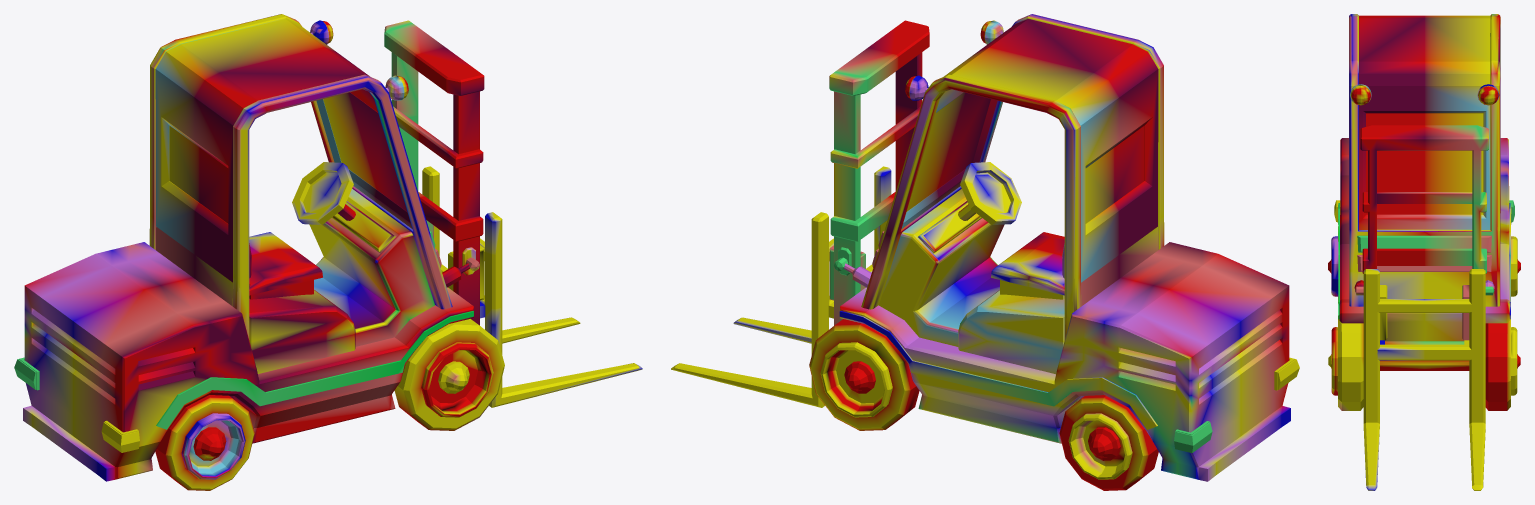
Rendered from forklift.obj.
The picture shows the model from 3 angles, left to right: view 1: azimuth 30°, elevation 25°; view 2: azimuth 150°, elevation 25°; view 3: azimuth 270°, elevation 25°; orthographic projection. The views are drawn at different scales.
Visible parts, largest first — view 1: forklift; view 2: forklift; view 3: forklift.
Boxes of the visible parts, left/top/right/bottom form: forklift: left=14, top=14, right=642, bottom=490; forklift: left=671, top=14, right=1299, bottom=490; forklift: left=1328, top=14, right=1520, bottom=490.
Size of the model in its own units: 196 by 127 by 70.82.
